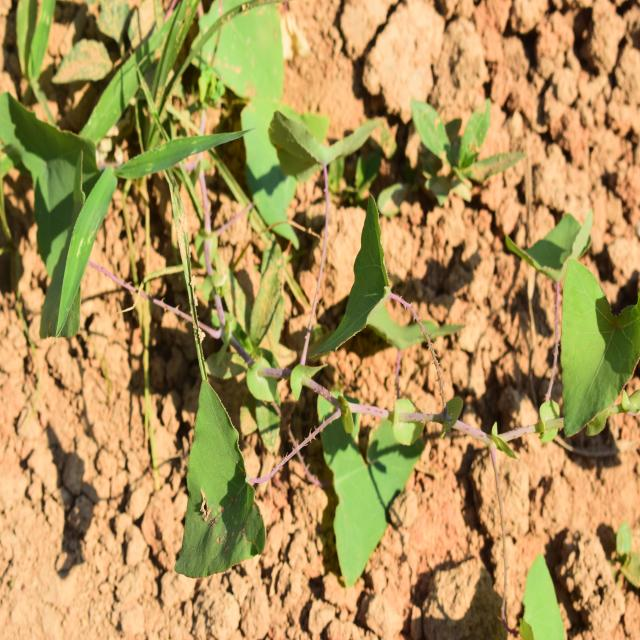Asiatic_Smartweed: (168, 380, 276, 592), (554, 225, 640, 453), (317, 192, 408, 351)
